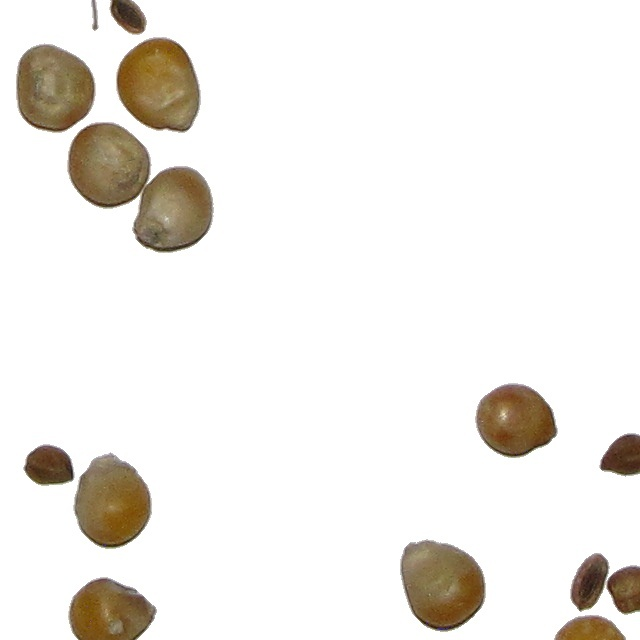buckwheat: (569, 552, 611, 613), (22, 443, 76, 487), (598, 432, 640, 478), (605, 564, 640, 616)
mais: (115, 36, 202, 134), (399, 538, 487, 633), (72, 451, 153, 550), (66, 121, 153, 210), (15, 42, 97, 134), (131, 165, 215, 254), (474, 382, 559, 459), (67, 576, 158, 640), (544, 614, 632, 640)
